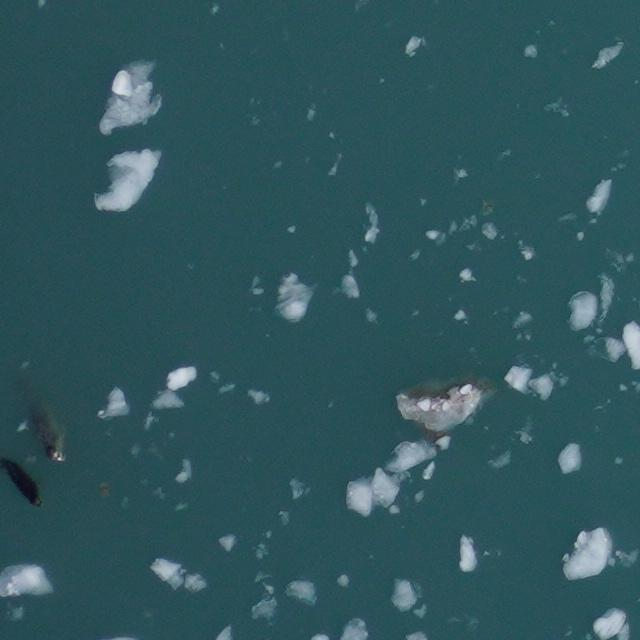seal: (3, 373, 79, 467), (0, 450, 49, 510)
